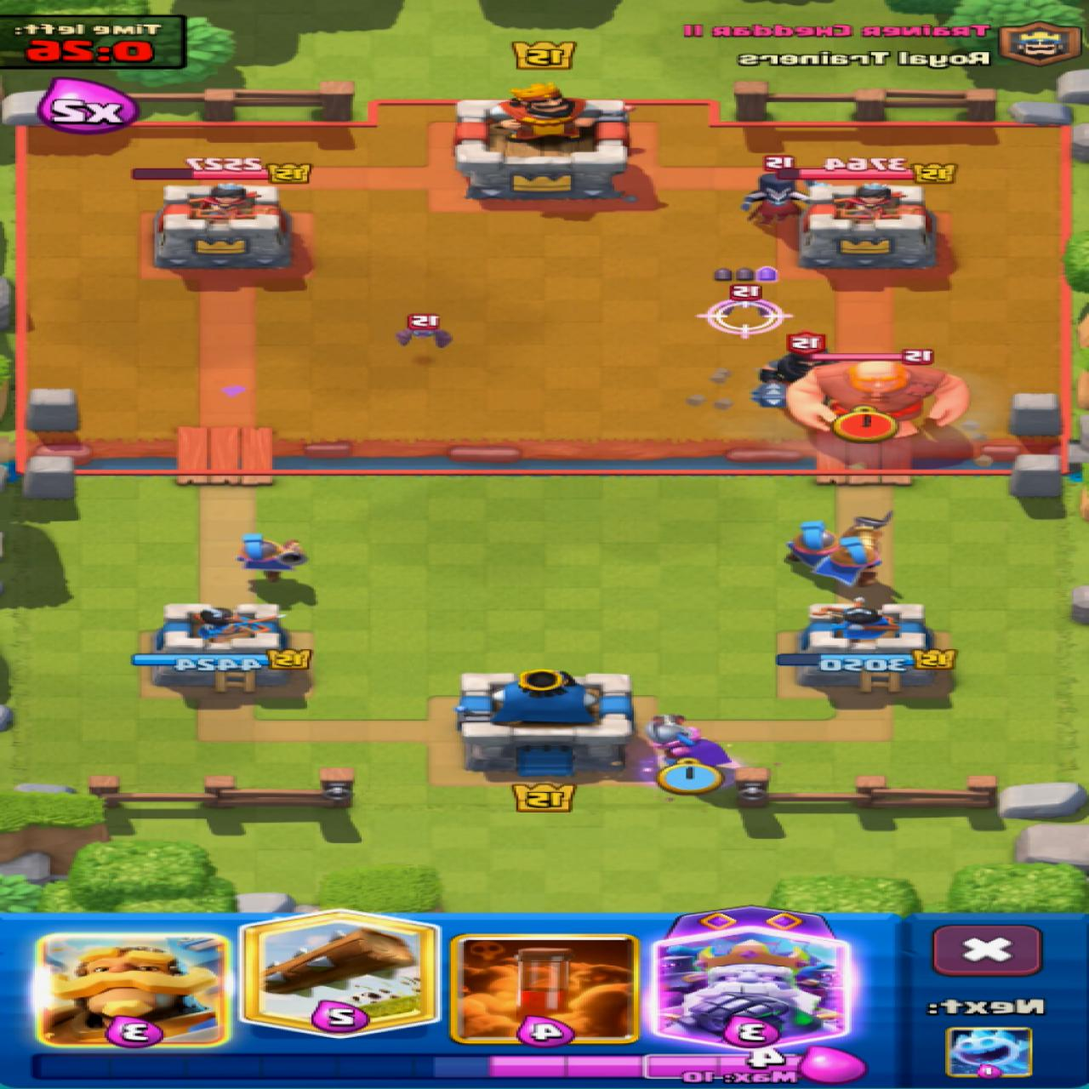Enemy-Bat: (699, 285, 795, 339), (396, 315, 453, 347)
Enemy-DarkPrince-Shield: (754, 332, 823, 406)
Enemy-Giant: (791, 359, 969, 437)
Enemy-KingTower: (455, 84, 632, 198)
Enemy-NightWitch: (743, 174, 815, 224)
Enemy-PrincessTower: (155, 182, 292, 268), (802, 182, 937, 267)
